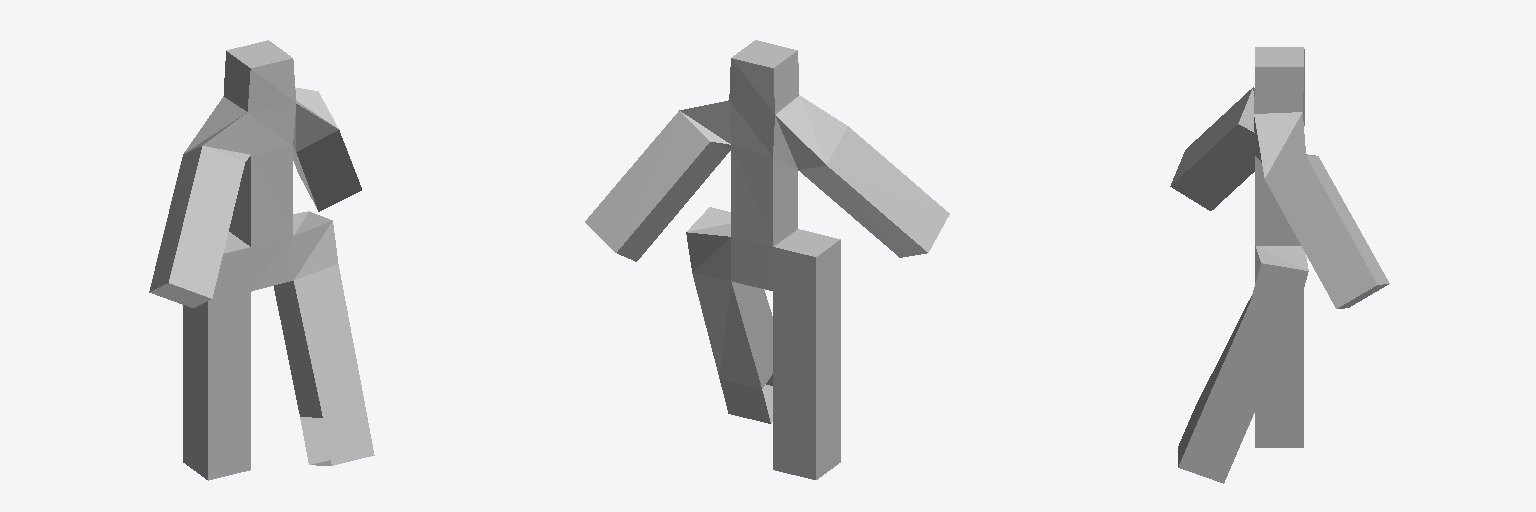
Rendered from cuboid_000004.obj.
3 views of the same model, side by side, from view 1: azimuth 30°, elevation 25°; view 2: azimuth 150°, elevation 25°; view 3: azimuth 270°, elevation 25° (orthographic).
Visible parts, largest first — view 1: Cube; view 2: Cube; view 3: Cube.
Boxes of the visible parts, <box> form: Cube: <box>149,40,374,480</box>; Cube: <box>585,40,949,479</box>; Cube: <box>1170,47,1389,483</box>.
Bounding box in the file's own units: 3.16 × 4.5 × 2.23.